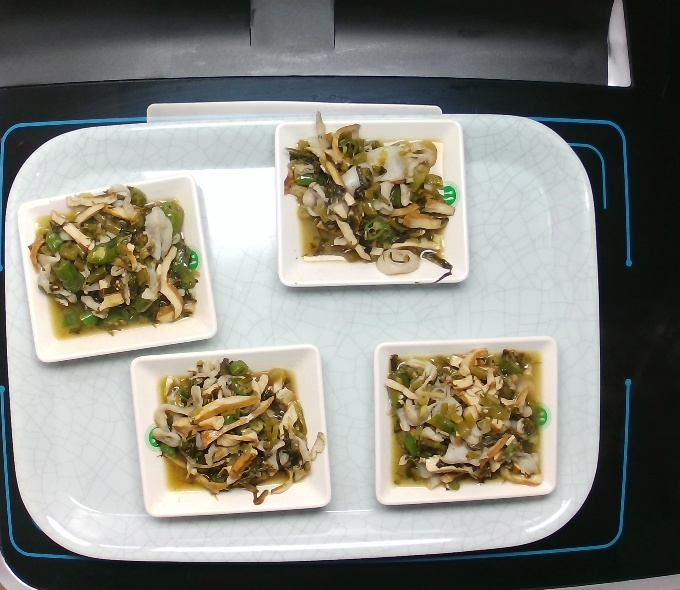wcq-YouYuXueCaiDouGan: (276, 109, 468, 286), (146, 345, 322, 507), (23, 176, 198, 336), (379, 337, 545, 501)
